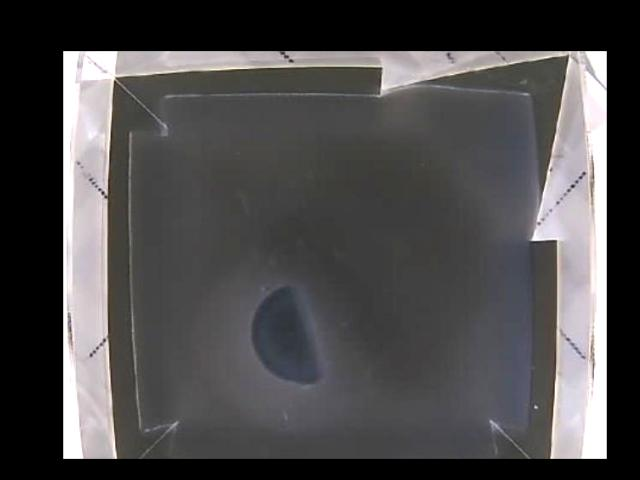Mooli: (248, 282, 326, 384)
